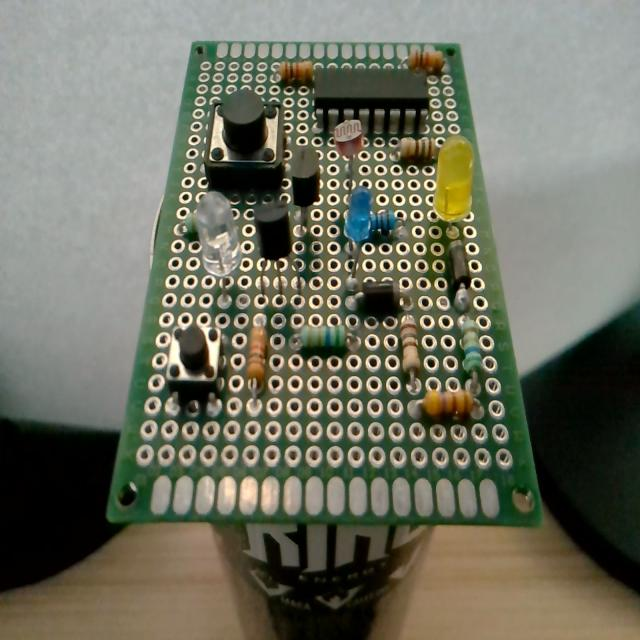IC: (311, 66, 427, 134)
cds: (329, 112, 363, 196)
diode: (342, 282, 413, 312), (446, 238, 473, 314)
led: (196, 193, 242, 277), (433, 134, 475, 222), (342, 186, 372, 281)
resistor: (457, 318, 484, 401), (424, 389, 474, 419), (247, 324, 267, 391), (400, 315, 420, 380), (372, 205, 407, 240), (302, 324, 346, 351), (397, 136, 436, 164), (409, 48, 444, 76), (278, 60, 314, 86)
switch: (202, 95, 286, 191), (167, 319, 223, 405)
transistor: (292, 142, 324, 239), (254, 197, 291, 261)
